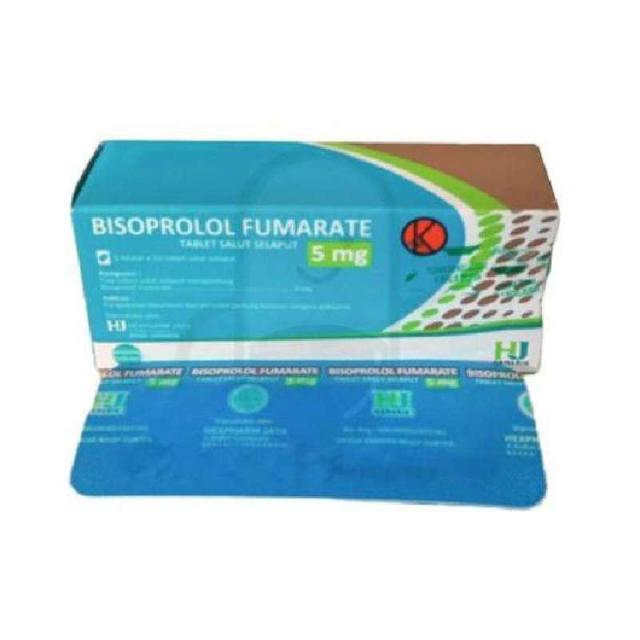drug-name: (90, 211, 376, 240)
